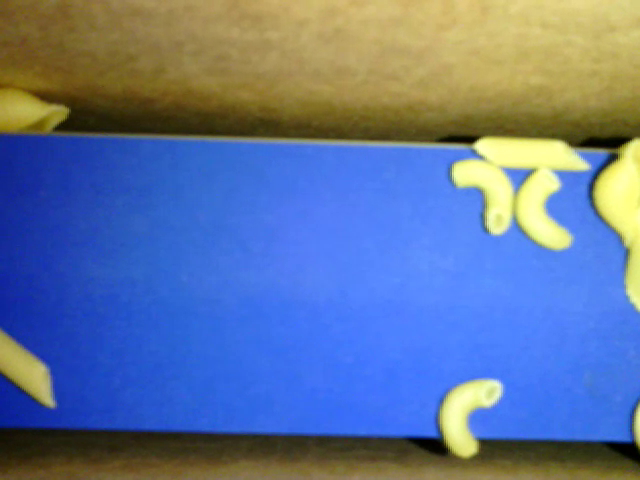elbow: (436, 377, 504, 457), (449, 155, 514, 238), (515, 165, 573, 251)
penne: (1, 326, 61, 408), (471, 133, 594, 172)
shell: (590, 139, 639, 251), (1, 82, 70, 132)
